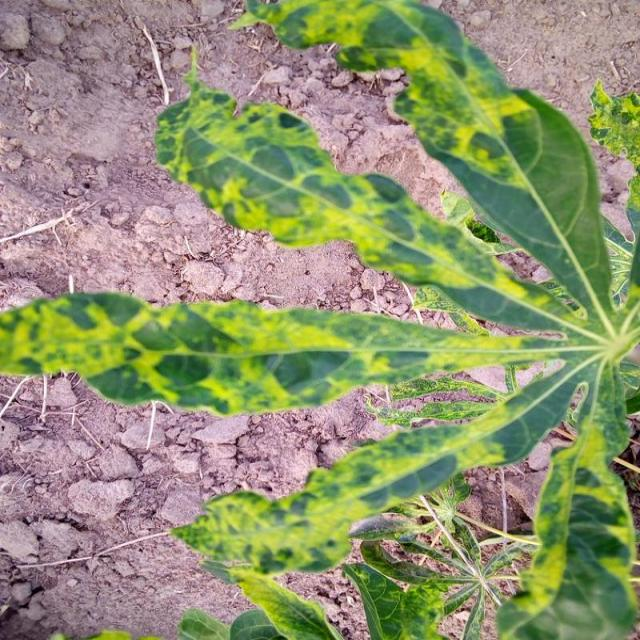cassava leaf: (1, 1, 638, 637), (230, 0, 615, 320), (1, 289, 556, 417)
